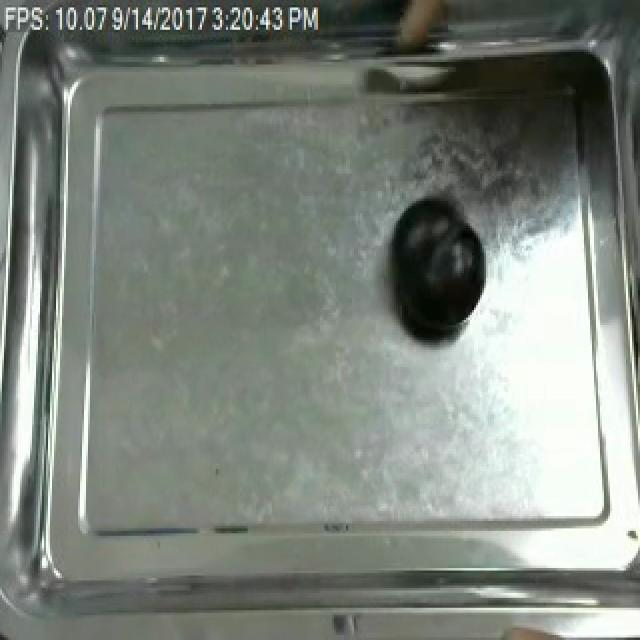Fruit: (382, 194, 490, 348)
